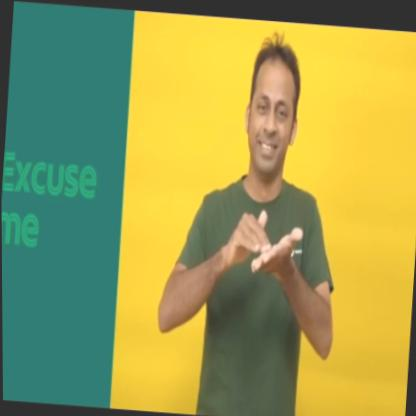ExcuseMe: (148, 22, 356, 416)
